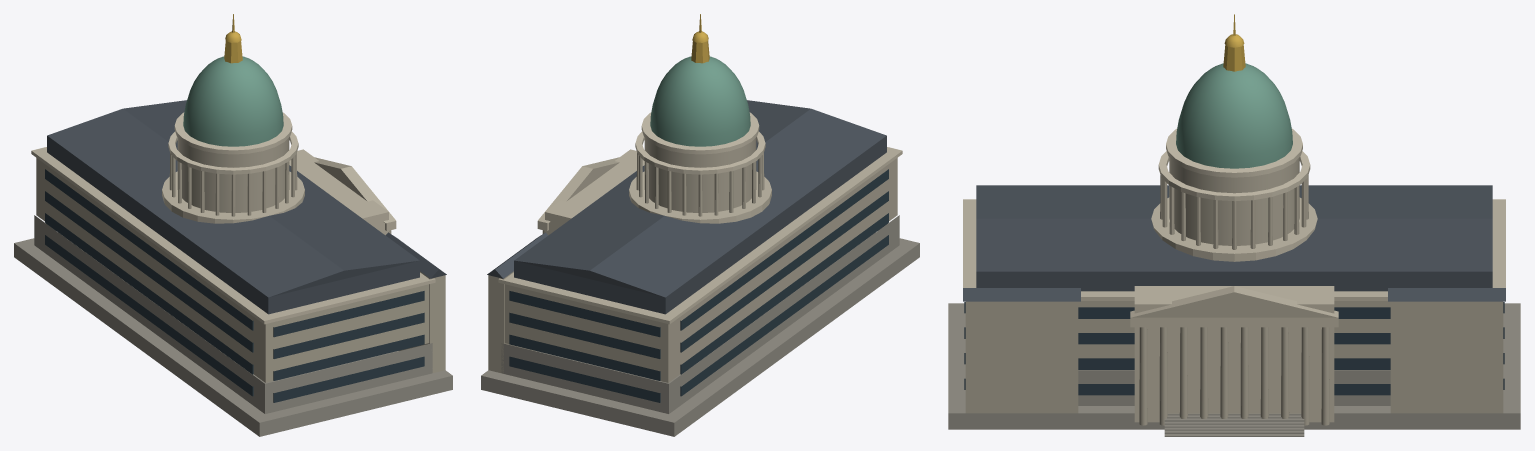
File: desktop.glb
The picture shows the model from 3 angles, left to right: view 1: azimuth 30°, elevation 25°; view 2: azimuth 150°, elevation 25°; view 3: azimuth 270°, elevation 25°; orthographic projection. The views are drawn at different scales.
Visible parts, largest first — view 1: lm.city-hall; view 2: lm.city-hall; view 3: lm.city-hall.
Part boxes in pixels (left/top/right/bottom): lm.city-hall: left=14, top=14, right=452, bottom=436; lm.city-hall: left=481, top=14, right=919, bottom=436; lm.city-hall: left=948, top=14, right=1520, bottom=436.
Size of the model in its own units: 73 by 91.75 by 132.
